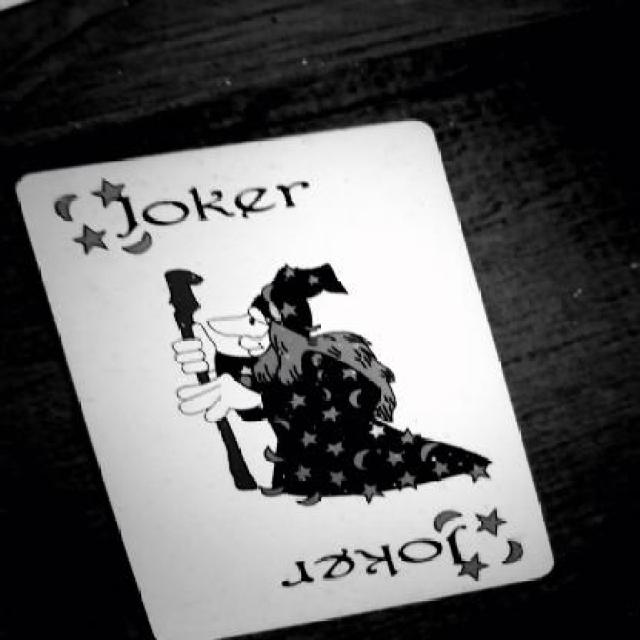BLACK JOKER: (228, 496, 530, 626), (32, 157, 312, 266)
